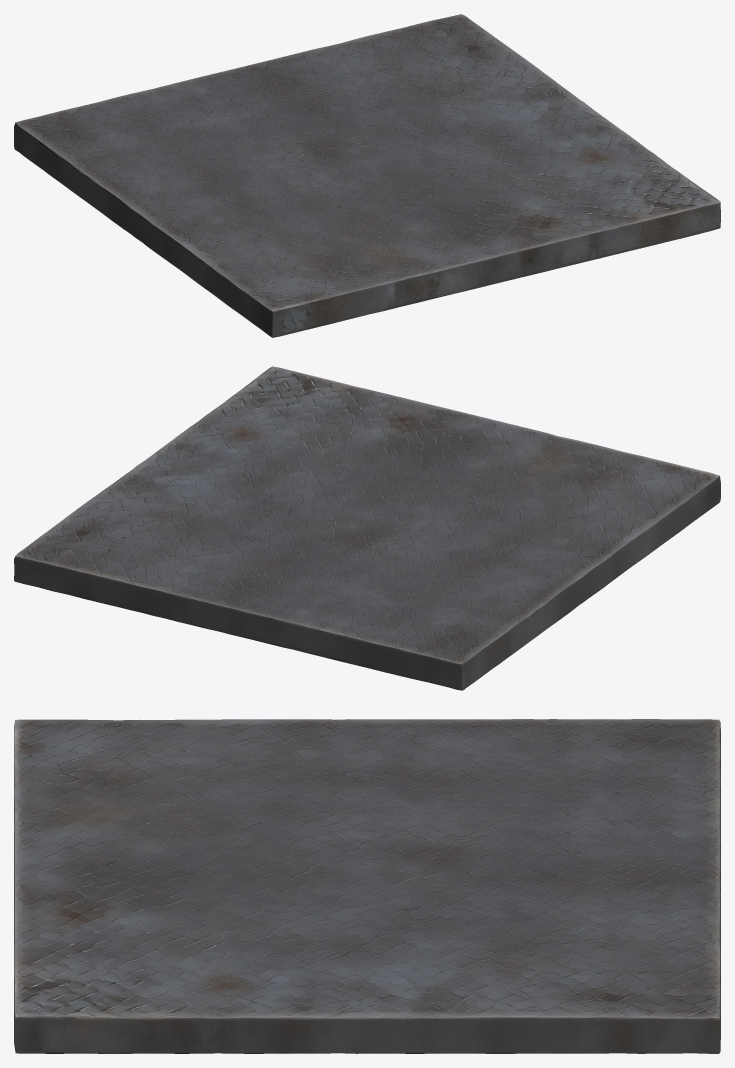
Rendered from ARCH-FLOOR-METAL-lod0.glb.
The picture shows the model from 3 angles, top to bottom: view 1: azimuth 30°, elevation 25°; view 2: azimuth 150°, elevation 25°; view 3: azimuth 270°, elevation 25°; orthographic projection. The views are drawn at different scales.
Parts seen in each view (by area): view 1: Mesh; view 2: Mesh; view 3: Mesh.
Boxes of the visible parts, x1,y1,x2,y2 form: Mesh: [14, 14, 720, 337]; Mesh: [14, 366, 720, 690]; Mesh: [14, 719, 720, 1053].
Size of the model in its own units: 1.89 by 0.112 by 1.89.
1 material, 1 textured.
